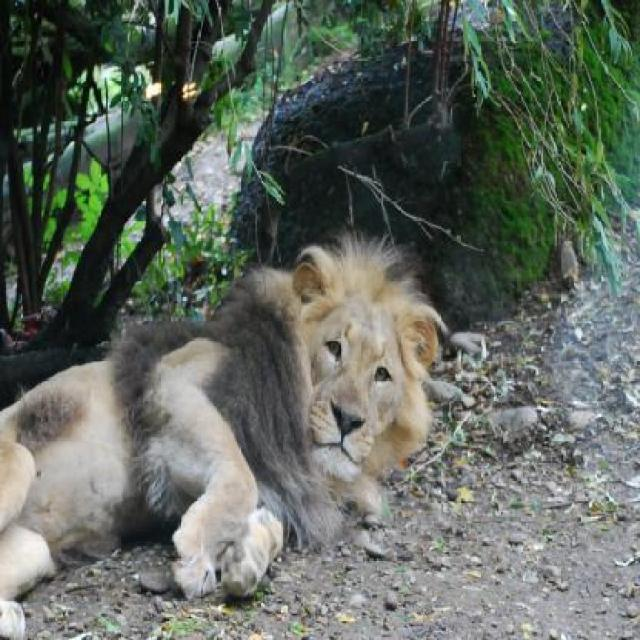Lion: (0, 240, 478, 627)
